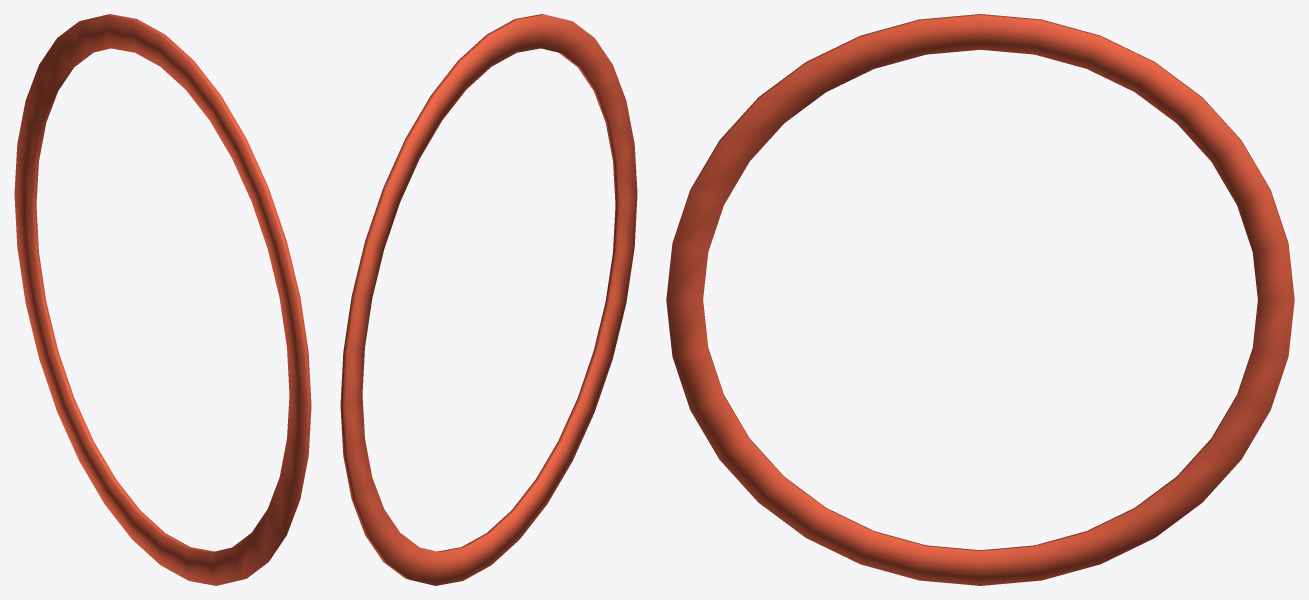
Rendered from Big Laser.fbx.
3 renders of one model, left to right at view 1: azimuth 30°, elevation 25°; view 2: azimuth 150°, elevation 25°; view 3: azimuth 270°, elevation 25°, orthographic. The views are drawn at different scales.
Visible parts, largest first — view 1: Circle; view 2: Circle; view 3: Circle.
Boxes of the visible parts, x1,y1,x2,y2 form: Circle: (14, 14, 311, 585); Circle: (340, 14, 637, 585); Circle: (666, 14, 1294, 585).
Bounding box in the file's own units: 1 × 0.01 × 1.
